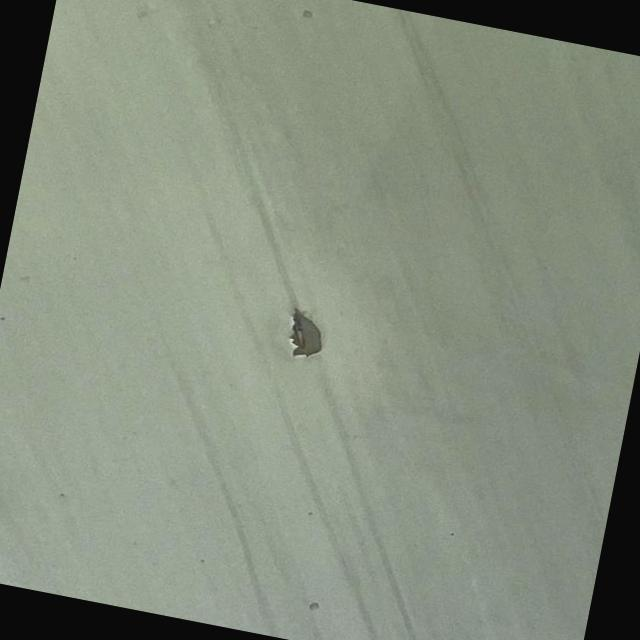crack: (250, 294, 339, 376)
